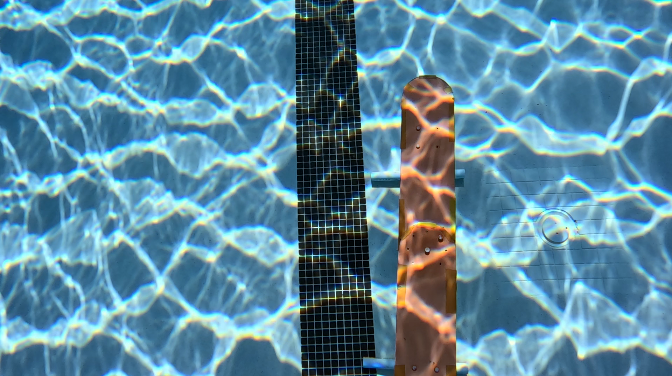pathmarker: (394, 74, 454, 373)
